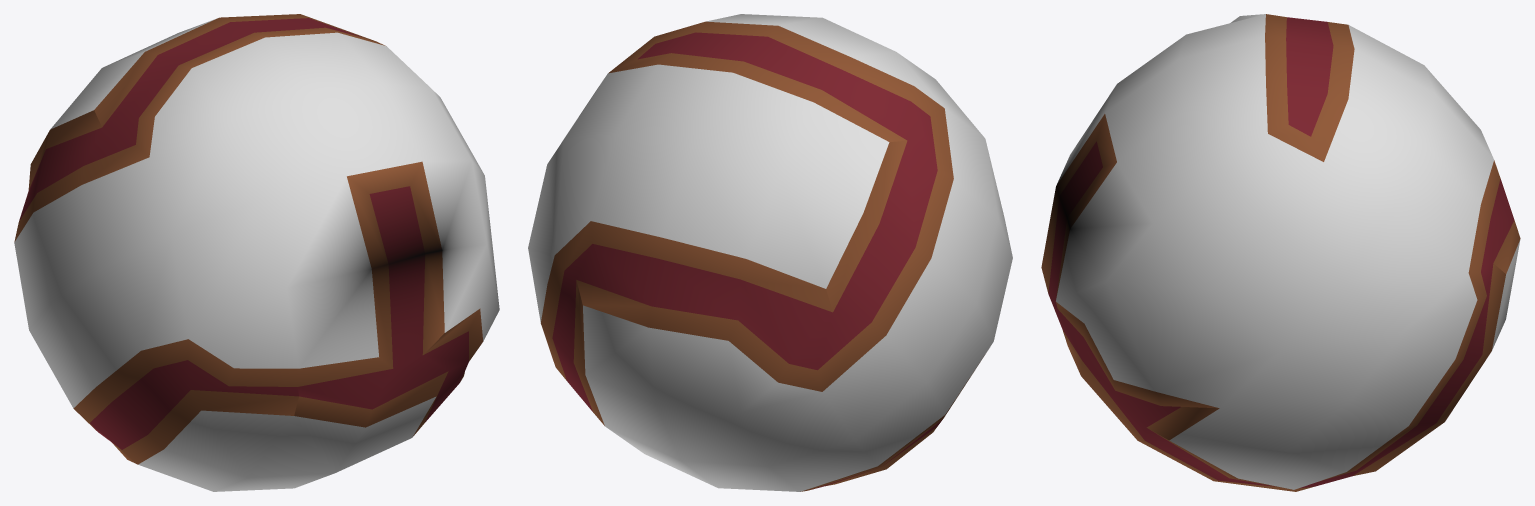
Rendered from FireBall.fbx.
3 views of the same model, side by side, from view 1: azimuth 30°, elevation 25°; view 2: azimuth 150°, elevation 25°; view 3: azimuth 270°, elevation 25° (orthographic).
Visible parts, largest first — view 1: Cube; view 2: Cube; view 3: Cube.
Boxes of the visible parts, left/top/right/bottom form: Cube: left=14, top=14, right=499, bottom=491; Cube: left=528, top=14, right=1012, bottom=491; Cube: left=1041, top=14, right=1520, bottom=491.
Size of the model in its own units: 38.41 by 39.35 by 39.35.
